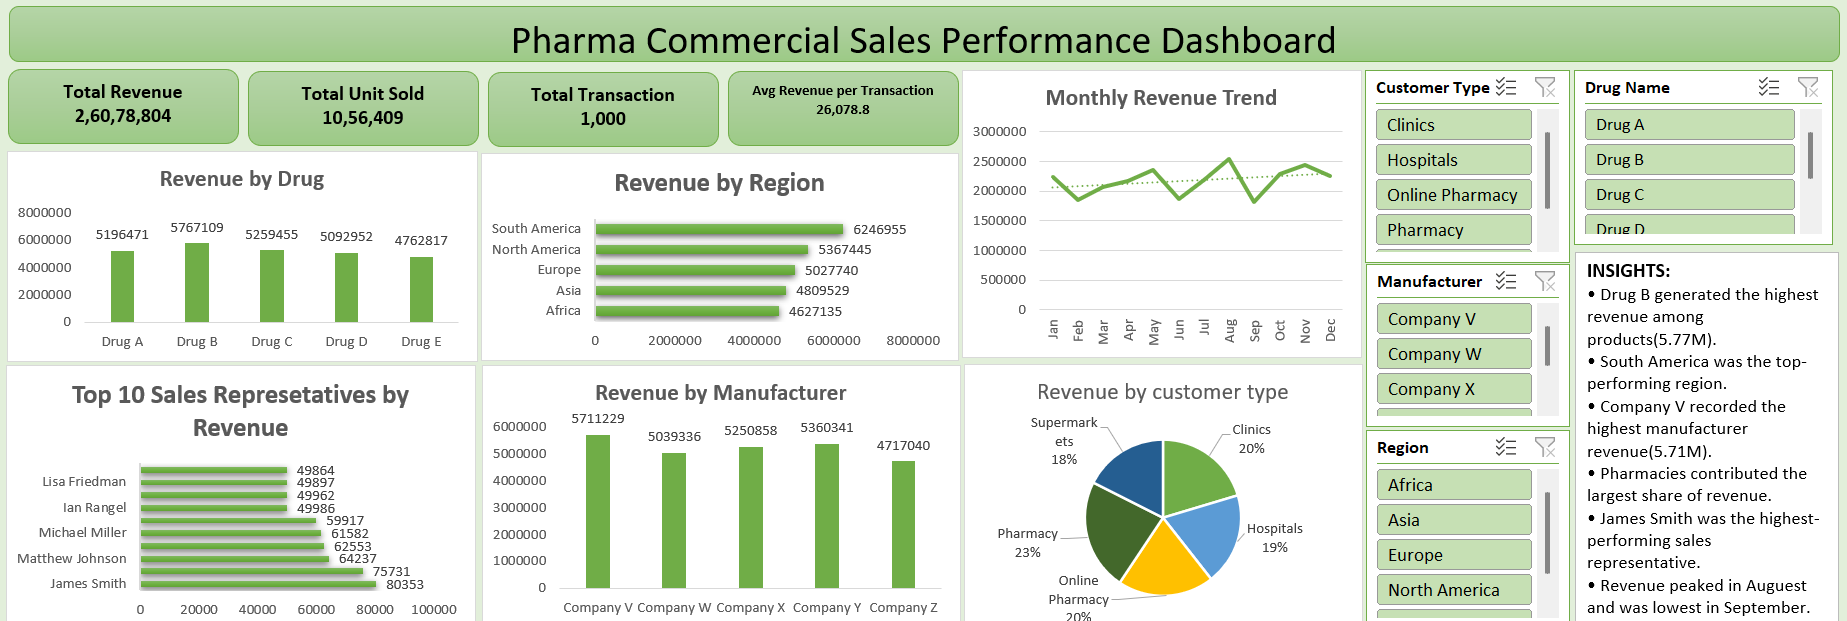

The dashboard page shown, as its layout file describes it:
{"tool":"powerbi","page":{"name":"commercial intelligence","canvas":[1280,720],"ordinal":0},"visuals":[{"type":"textbox","box":[0,0,1280,62.7],"z":0},{"type":"card","fields":{"Values":["Raw_Data.Total Revenue"]},"box":[0,62.7,243.7,102.5],"z":1000},{"type":"card","fields":{"Values":["Raw_Data.Total Units Sold"]},"box":[243.7,62.7,234,102.5],"z":2000},{"type":"card","fields":{"Values":["Raw_Data.Total Transactions"]},"box":[476.5,62.7,234,102.5],"z":3000},{"type":"card","fields":{"Values":["Raw_Data.Avg Revenue per Transaction"]},"box":[710.6,62.7,234,102.5],"z":4000},{"type":"clusteredBarChart","fields":{"Category":["Raw_Data.Drug Name"],"Y":["Raw_Data.Total Revenue"]},"box":[477.8,191.8,466.9,179.8],"z":5000},{"type":"slicer","fields":{"Values":["Raw_Data.Sale Date.Variation.Date Hierarchy.Year","Raw_Data.Sale Date.Variation.Date Hierarchy.Quarter","Raw_Data.Sale Date.Variation.Date Hierarchy.Month","Raw_Data.Sale Date.Variation.Date Hierarchy.Day"]},"box":[710.6,165.3,234,26.5],"z":6000},{"type":"slicer","fields":{"Values":["Raw_Data.Region"]},"box":[0,165.3,229.2,26.5],"z":7000},{"type":"slicer","fields":{"Values":["Raw_Data.Customer Type"]},"box":[477.8,165.3,232.8,26.5],"z":8000},{"type":"slicer","fields":{"Values":["Raw_Data.Manufacturer"]},"box":[229.2,165.3,247.3,26.5],"z":9000},{"type":"lineChart","fields":{"Y":["Raw_Data.Total Revenue"],"Category":["Raw_Data.Sale Date.Variation.Date Hierarchy.Year","Raw_Data.Sale Date.Variation.Date Hierarchy.Month"]},"box":[0,191.8,477.8,179.8],"z":10000},{"type":"pivotTable","fields":{"Rows":["Raw_Data.Region"],"Columns":["Raw_Data.Customer Type"],"Values":["Raw_Data.Total Revenue"]},"box":[692.5,540.5,585.1,176.1],"z":11000},{"type":"barChart","fields":{"Category":["Raw_Data.Drug Name"],"Y":["Raw_Data.Revenue Contribution %"]},"box":[0,371.6,692.5,164.1],"z":12000},{"type":"pivotTable","fields":{"Rows":["Raw_Data.Drug Name"],"Columns":["Raw_Data.Region"],"Values":["Raw_Data.Total Revenue"]},"box":[692.5,371.6,585.1,168.9],"z":13000},{"type":"barChart","fields":{"Category":["Raw_Data.Sales Representative"],"Y":["Raw_Data.Total Revenue"]},"box":[0,535.7,692.5,179.8],"z":14000},{"type":"textbox","box":[944.6,62.7,335.4,308.8],"z":15000}]}

Visuals, with their boxes on the page's 1280x720 design canvas (x1, y1, x2, y2). These are canvas units, not pixel positions in the 1847x621 screenshot, which may show the page scaled, cropped or inside an application window:
textbox: locate(0, 0, 1280, 63)
card - Raw_Data.Total Revenue: locate(0, 63, 244, 165)
card - Raw_Data.Total Units Sold: locate(244, 63, 478, 165)
card - Raw_Data.Total Transactions: locate(476, 63, 710, 165)
card - Raw_Data.Avg Revenue per Transaction: locate(711, 63, 945, 165)
clusteredBarChart - Raw_Data.Drug Name x Raw_Data.Total Revenue: locate(478, 192, 945, 372)
slicer - Raw_Data.Sale Date.Variation.Date Hierarchy.Year x Raw_Data.Sale Date.Variation.Date Hierarchy.Quarter: locate(711, 165, 945, 192)
slicer - Raw_Data.Region: locate(0, 165, 229, 192)
slicer - Raw_Data.Customer Type: locate(478, 165, 711, 192)
slicer - Raw_Data.Manufacturer: locate(229, 165, 476, 192)
lineChart - Raw_Data.Total Revenue x Raw_Data.Sale Date.Variation.Date Hierarchy.Year: locate(0, 192, 478, 372)
pivotTable - Raw_Data.Region x Raw_Data.Customer Type: locate(692, 540, 1278, 717)
barChart - Raw_Data.Drug Name x Raw_Data.Revenue Contribution %: locate(0, 372, 692, 536)
pivotTable - Raw_Data.Drug Name x Raw_Data.Region: locate(692, 372, 1278, 540)
barChart - Raw_Data.Sales Representative x Raw_Data.Total Revenue: locate(0, 536, 692, 716)
textbox: locate(945, 63, 1280, 372)
